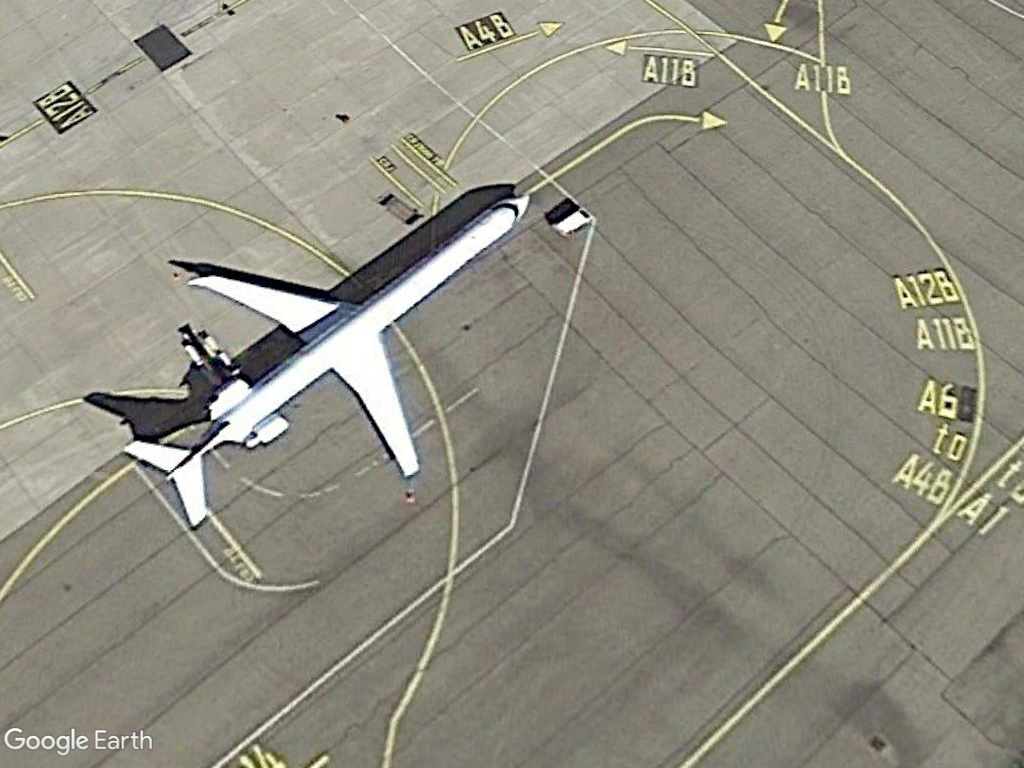airliner: (120, 178, 533, 531)
